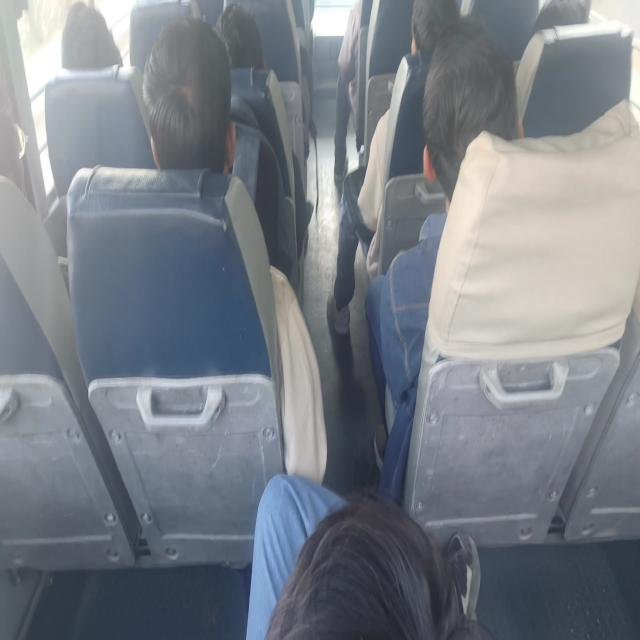person: (252, 446, 478, 640), (154, 39, 266, 181), (420, 28, 505, 200), (217, 0, 282, 112), (390, 0, 467, 69), (58, 0, 117, 84), (0, 105, 40, 200), (529, 0, 589, 37)
